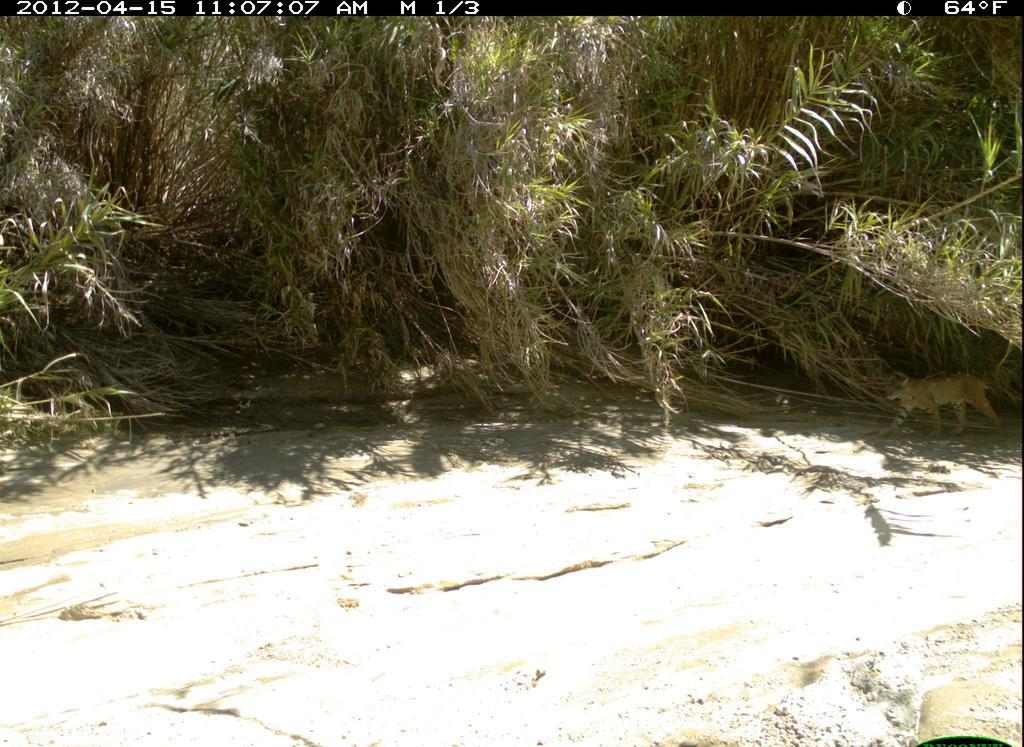bobcat: (876, 355, 1004, 441)
